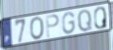7: (14, 18, 27, 45)
G: (62, 11, 76, 35)
O: (29, 16, 45, 41)
P: (45, 14, 60, 39)
Q: (77, 8, 93, 34), (94, 6, 108, 31)
